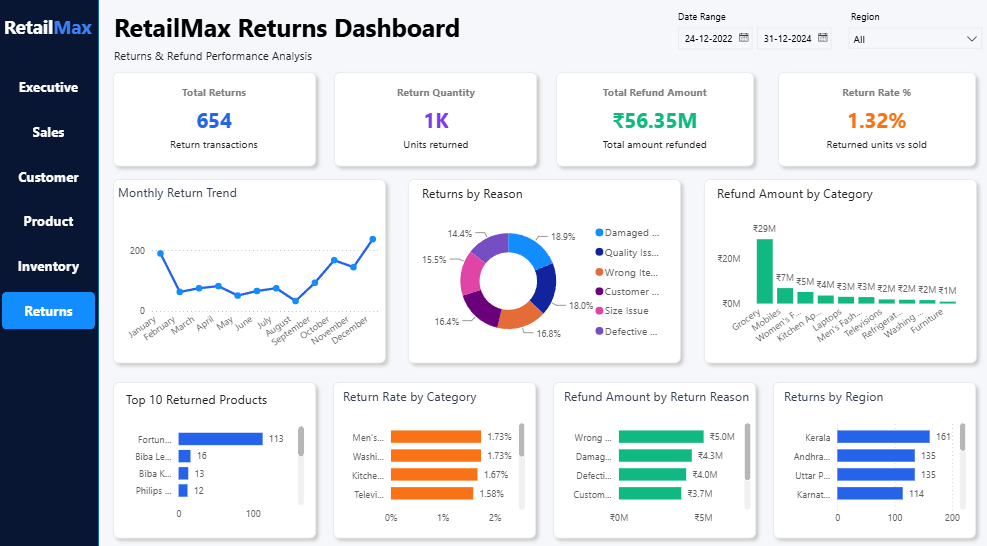

The dashboard page shown, as its layout file describes it:
{"tool":"powerbi","page":{"name":"Returns Dashboard","canvas":[1280,720],"ordinal":5},"visuals":[{"type":"shape","box":[0,0,130,720],"z":0,"group":"g7"},{"type":"shape","box":[425,92,280,140],"z":0,"group":"g1"},{"type":"shape","box":[711,92,273.4,140],"z":0,"group":"g2"},{"type":"shape","box":[997,92,273.4,140],"z":0,"group":"g3"},{"type":"textbox","box":[160,176,144,64],"z":0},{"type":"shape","box":[139,230,370,256],"z":0,"group":"g4"},{"type":"shape","box":[520.5,230,370,256],"z":0,"group":"g5"},{"type":"shape","box":[902,230,370,256],"z":0,"group":"g6"},{"type":"shape","box":[139,92,280,140],"z":1000},{"type":"cardVisual","title":"sales","fields":{"Data":["Measure.Return Quantity"]},"box":[445,127,240,70],"z":1000,"group":"g1"},{"type":"cardVisual","title":"sales","fields":{"Data":["Measure.Total Refund Amount"]},"box":[730.5,127,234.4,70],"z":1000,"group":"g2"},{"type":"cardVisual","title":"sales","fields":{"Data":["Measure.Return Rate %"]},"box":[1016.5,127,234.4,70],"z":1000,"group":"g3"},{"type":"lineChart","title":"Monthly Return Trend","fields":{"Y":["Measure.Return Quantity"],"Category":["dim_date.month_name"]},"box":[149.6,246,348.9,224],"z":1000,"group":"g4"},{"type":"textbox","box":[445,112.8,240,35],"z":2000,"group":"g1"},{"type":"textbox","box":[730.5,112.8,234.4,35],"z":2000,"group":"g2"},{"type":"textbox","box":[1016.5,112.8,234.4,35],"z":2000,"group":"g3"},{"type":"cardVisual","title":"sales","fields":{"Data":["Measure.Total Returns"]},"box":[159,127,240,70],"z":2000},{"type":"textbox","box":[445,179.5,240,35],"z":3000,"group":"g1"},{"type":"textbox","box":[730.5,179.5,234.4,35],"z":3000,"group":"g2"},{"type":"textbox","box":[1016.5,179.5,234.4,35],"z":3000,"group":"g3"},{"type":"shape","box":[423,491,280,220],"z":3000},{"type":"textbox","box":[159,112.8,240,35],"z":4000},{"type":"shape","box":[707,491,280,220],"z":5000},{"type":"textbox","box":[159,179.5,240,35],"z":6000},{"type":"shape","box":[991,491,280,220],"z":7000},{"type":"textbox","box":[144,16,544,64],"z":8000},{"type":"barChart","title":"Return Rate by Category","fields":{"Y":["Measure.Return Rate %"],"Category":["dim_category.category_name"]},"box":[440.5,507.9,245,186.2],"z":9000},{"type":"barChart","title":"Refund Amount by Return Reason","fields":{"Y":["Measure.Total Refund Amount"],"Category":["fact_returns.return_reason"]},"box":[724.9,507.9,250.9,186.2],"z":10000},{"type":"clusteredBarChart","title":"Returns by Region","fields":{"Category":["dim_region.region_name"],"Y":["Measure.Return Quantity"]},"box":[1008.5,507.9,245,186.2],"z":11000},{"type":"textbox","box":[144,64,288,80],"z":12000},{"type":"slicer","fields":{"Values":["dim_date.full_date"]},"box":[864,15,224,96],"z":13000},{"type":"slicer","fields":{"Values":["dim_region.region_name"]},"box":[1088,15,192,80],"z":14000},{"type":"group","id":"g1","title":"Group 2","box":[425,92,280,140],"z":15000},{"type":"group","id":"g2","title":"Group 2","box":[711,92,280,144],"z":16000},{"type":"group","id":"g3","title":"Group 2","box":[997,92,280,144],"z":17000},{"type":"actionButton","box":[5,96,120,48],"z":18000,"group":"g7"},{"type":"group","id":"g4","title":"Group 1","box":[139,230,370,256],"z":18000},{"type":"textbox","box":[0,20,128,48],"z":19000,"group":"g7"},{"type":"group","id":"g5","title":"Group 3","box":[520.5,230,370,256],"z":19000},{"type":"actionButton","box":[5,153.6,120,48],"z":20000,"group":"g7"},{"type":"group","id":"g6","title":"Group 4","box":[902,230,370,256],"z":20000},{"type":"group","id":"g7","title":"Group 2","box":[0,0,130,720],"z":21000},{"type":"actionButton","box":[5,211.2,120,48],"z":21000,"group":"g7"},{"type":"donutChart","title":"Returns by Reason","fields":{"Category":["fact_returns.return_reason"],"Y":["Measure.Return Quantity"]},"box":[542,247,329,216],"z":22000},{"type":"actionButton","box":[5,268.8,120,48],"z":22000,"group":"g7"},{"type":"columnChart","title":"Refund Amount by Category","fields":{"Category":["dim_category.category_name"],"Y":["Measure.Total Refund Amount"]},"box":[923,247,329,216],"z":23000},{"type":"actionButton","box":[5,326.4,120,48],"z":23000,"group":"g7"},{"type":"actionButton","box":[5,384,120,48],"z":24000,"group":"g7"},{"type":"shape","box":[139,491,280,220],"z":24000},{"type":"barChart","title":"Top 10 Returned Products","fields":{"Category":["dim_product.product_name"],"Y":["Measure.Return Quantity"]},"box":[160,512,240,176],"z":25000}]}

Visuals, with their boxes on the page's 1280x720 design canvas (x1, y1, x2, y2). These are canvas units, not pixel positions in the 987x546 screenshot, which may show the page scaled, cropped or inside an application window:
shape: detection(0, 0, 130, 720)
shape: detection(425, 92, 705, 232)
shape: detection(711, 92, 984, 232)
shape: detection(997, 92, 1270, 232)
textbox: detection(160, 176, 304, 240)
shape: detection(139, 230, 509, 486)
shape: detection(520, 230, 890, 486)
shape: detection(902, 230, 1272, 486)
shape: detection(139, 92, 419, 232)
"sales" cardVisual: detection(445, 127, 685, 197)
"sales" cardVisual: detection(730, 127, 965, 197)
"sales" cardVisual: detection(1016, 127, 1251, 197)
"Monthly Return Trend" lineChart: detection(150, 246, 498, 470)
textbox: detection(445, 113, 685, 148)
textbox: detection(730, 113, 965, 148)
textbox: detection(1016, 113, 1251, 148)
"sales" cardVisual: detection(159, 127, 399, 197)
textbox: detection(445, 180, 685, 214)
textbox: detection(730, 180, 965, 214)
textbox: detection(1016, 180, 1251, 214)
shape: detection(423, 491, 703, 711)
textbox: detection(159, 113, 399, 148)
shape: detection(707, 491, 987, 711)
textbox: detection(159, 180, 399, 214)
shape: detection(991, 491, 1271, 711)
textbox: detection(144, 16, 688, 80)
"Return Rate by Category" barChart: detection(440, 508, 686, 694)
"Refund Amount by Return Reason" barChart: detection(725, 508, 976, 694)
"Returns by Region" clusteredBarChart: detection(1008, 508, 1254, 694)
textbox: detection(144, 64, 432, 144)
slicer - dim_date.full_date: detection(864, 15, 1088, 111)
slicer - dim_region.region_name: detection(1088, 15, 1280, 95)
"Group 2" group: detection(425, 92, 705, 232)
"Group 2" group: detection(711, 92, 991, 236)
"Group 2" group: detection(997, 92, 1277, 236)
actionButton: detection(5, 96, 125, 144)
"Group 1" group: detection(139, 230, 509, 486)
textbox: detection(0, 20, 128, 68)
"Group 3" group: detection(520, 230, 890, 486)
actionButton: detection(5, 154, 125, 202)
"Group 4" group: detection(902, 230, 1272, 486)
"Group 2" group: detection(0, 0, 130, 720)
actionButton: detection(5, 211, 125, 259)
"Returns by Reason" donutChart: detection(542, 247, 871, 463)
actionButton: detection(5, 269, 125, 317)
"Refund Amount by Category" columnChart: detection(923, 247, 1252, 463)
actionButton: detection(5, 326, 125, 374)
actionButton: detection(5, 384, 125, 432)
shape: detection(139, 491, 419, 711)
"Top 10 Returned Products" barChart: detection(160, 512, 400, 688)
